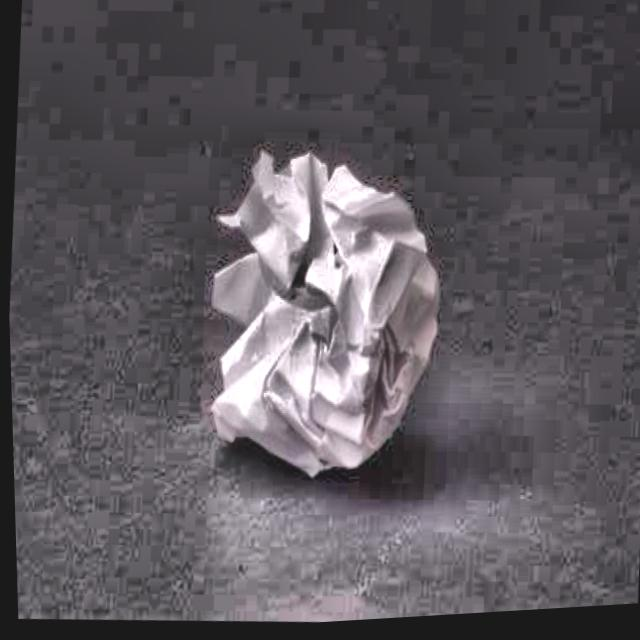Paper: (191, 135, 457, 494)
